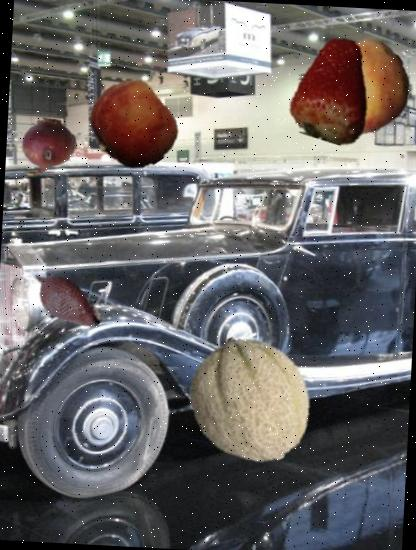Cantaloupe: (182, 332, 320, 470)
Onion: (18, 117, 80, 179)
Peach: (308, 36, 414, 142), (85, 78, 179, 172)
Salak: (24, 258, 108, 343)
Strawberry: (282, 35, 392, 145)
